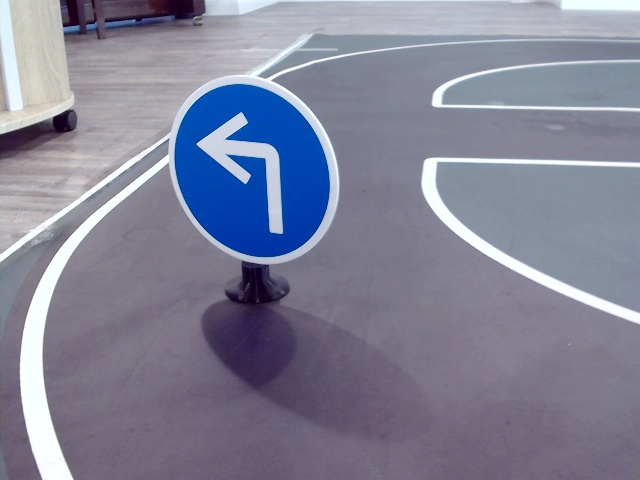turn_left: (196, 109, 296, 234)
